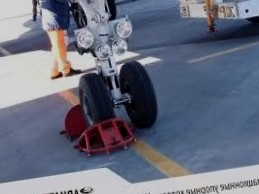chock: (70, 115, 138, 160), (57, 104, 90, 143)
wheel: (116, 58, 161, 131), (75, 70, 116, 128)
